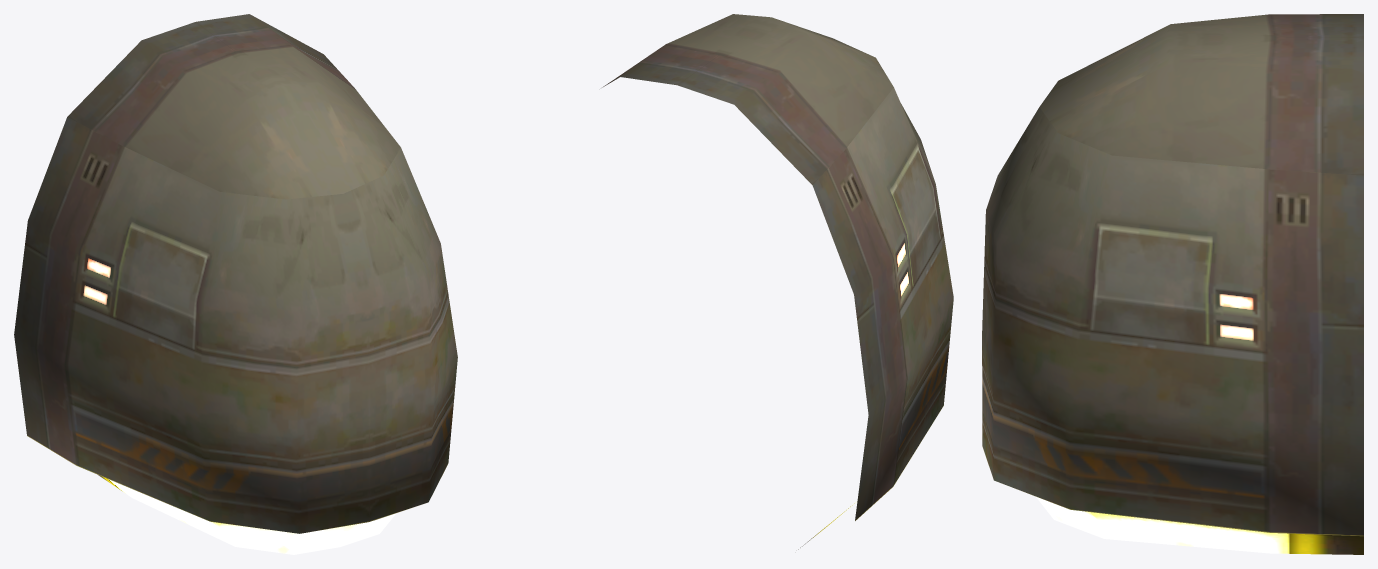
Rendered from hut_arch_industrial_light.glb.
The picture shows the model from 3 angles, left to right: view 1: azimuth 30°, elevation 25°; view 2: azimuth 150°, elevation 25°; view 3: azimuth 270°, elevation 25°; orthographic projection. The views are drawn at different scales.
Visible parts, largest first — view 1: hut_arch_industrial_light; view 2: hut_arch_industrial_light; view 3: hut_arch_industrial_light.
Part boxes in pixels (bbox=[...]): hut_arch_industrial_light: bbox=[14, 14, 457, 554]; hut_arch_industrial_light: bbox=[602, 14, 953, 549]; hut_arch_industrial_light: bbox=[982, 14, 1363, 554].
Bounding box in the file's own units: 0.0956 × 0.1056 × 0.0794.
1 material, 1 textured.
